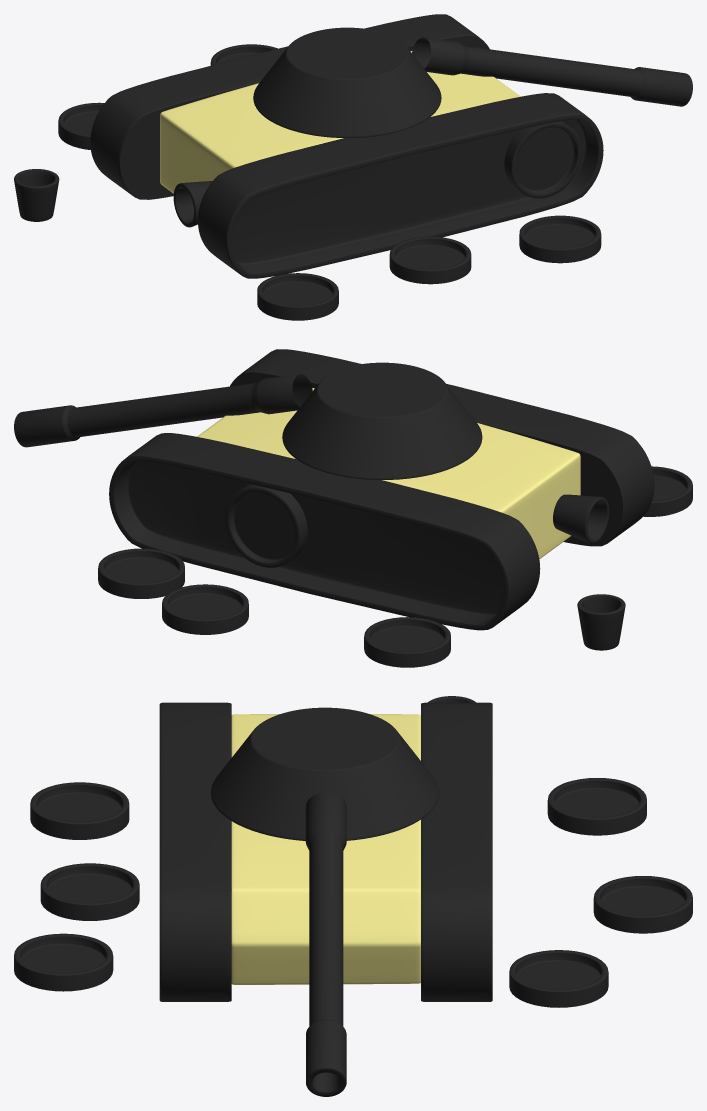
The model's file is Tank_Damaged.FBX.
The picture shows the model from 3 angles, top to bottom: view 1: azimuth 30°, elevation 25°; view 2: azimuth 150°, elevation 25°; view 3: azimuth 270°, elevation 25°; orthographic projection. The views are drawn at different scales.
Parts seen in each view (by area): view 1: Bottom; view 2: Bottom; view 3: Bottom.
Boxes of the visible parts, x1,y1,x2,y2 form: Bottom: (14, 14, 692, 320); Bottom: (14, 349, 692, 667); Bottom: (14, 696, 692, 1096).
Bounding box in the file's own units: 3.03 × 0.6646 × 2.37.
